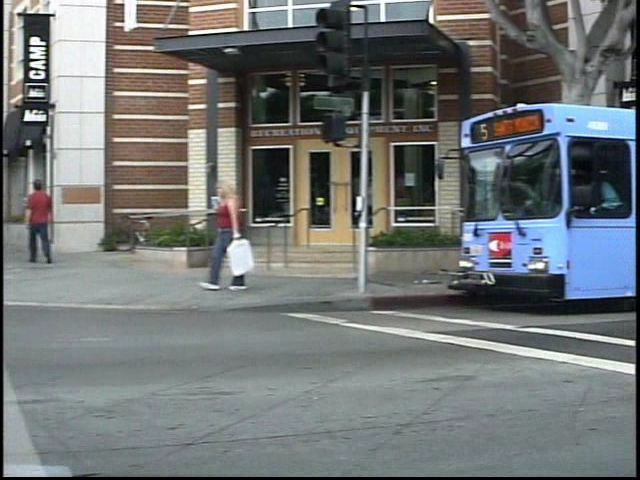person: (211, 176, 266, 295)
